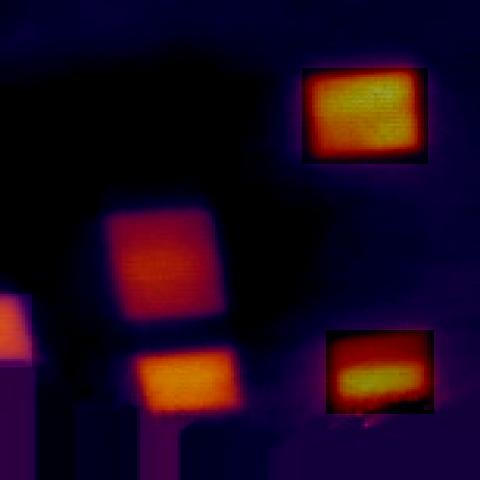fault: (87, 203, 242, 325), (302, 68, 428, 164), (130, 344, 250, 424), (326, 330, 434, 414), (0, 294, 32, 367)
